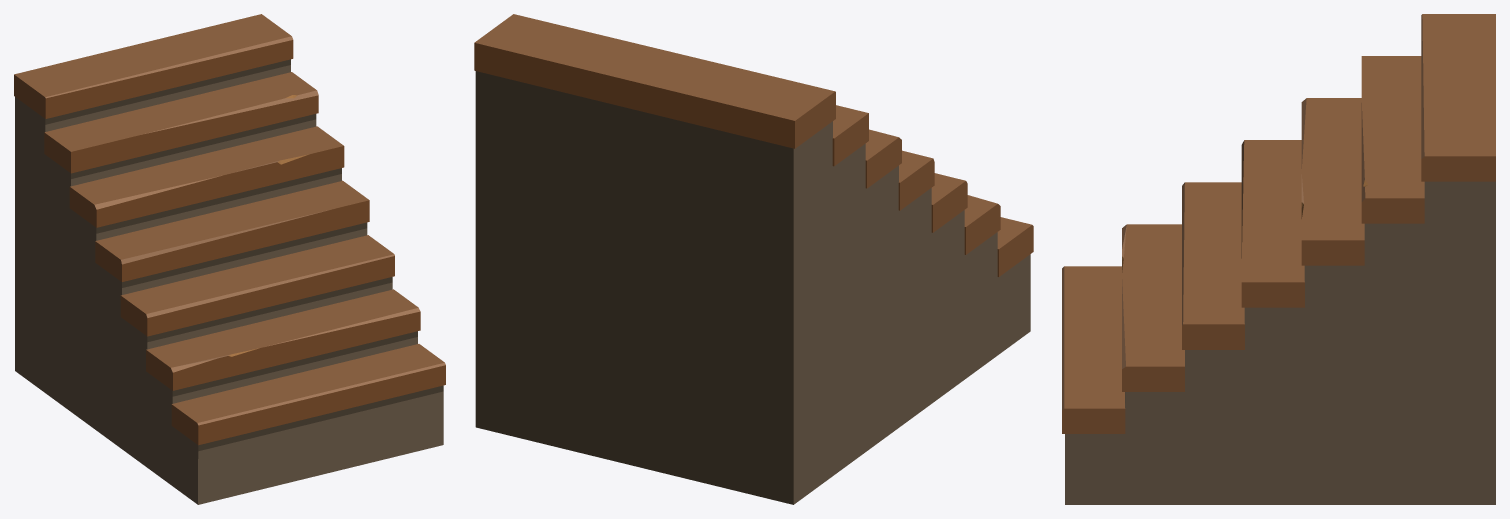
The model's file is BG_wood_stairs_03.fbx.
3 renders of one model, left to right at view 1: azimuth 30°, elevation 25°; view 2: azimuth 150°, elevation 25°; view 3: azimuth 270°, elevation 25°, orthographic. The views are drawn at different scales.
Parts seen in each view (by area): view 1: BG_wood_stairs_03; view 2: BG_wood_stairs_03; view 3: BG_wood_stairs_03.
Boxes of the visible parts, box(x1,y1,x2,y2) form: BG_wood_stairs_03: box(14, 14, 445, 504); BG_wood_stairs_03: box(474, 14, 1033, 504); BG_wood_stairs_03: box(1062, 14, 1495, 504).
Bounding box in the file's own units: 19.65 × 22.51 × 25.34.
